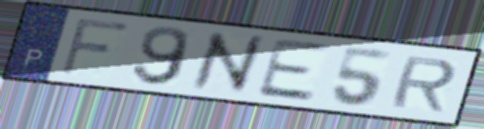5: (329, 43, 391, 109)
9: (129, 25, 193, 87)
E: (252, 36, 331, 104)
F: (56, 16, 134, 78)
N: (188, 29, 267, 95)
R: (386, 54, 460, 114)
